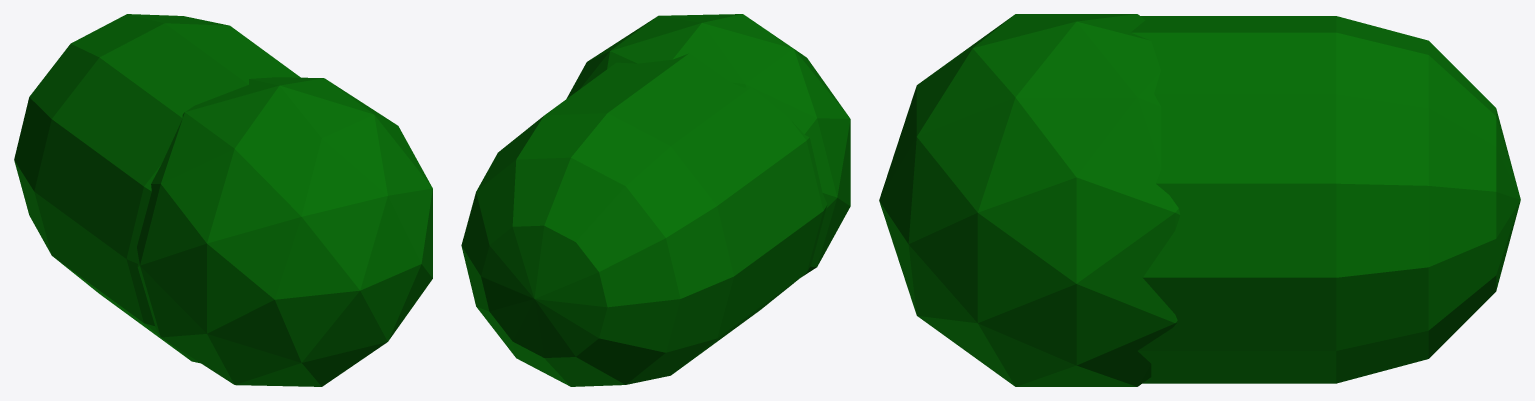
The model's file is _leg-shank-1.glb.
The picture shows the model from 3 angles, left to right: view 1: azimuth 30°, elevation 25°; view 2: azimuth 150°, elevation 25°; view 3: azimuth 270°, elevation 25°; orthographic projection. The views are drawn at different scales.
Size of the model in its own units: 0.1278 by 0.1278 by 0.2077.
